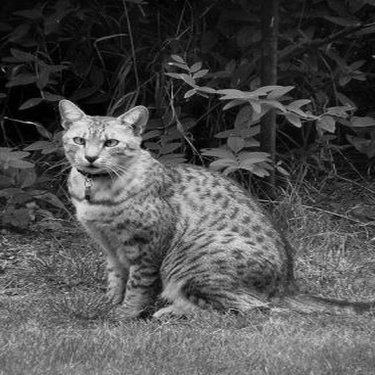cat: (26, 57, 353, 327)
